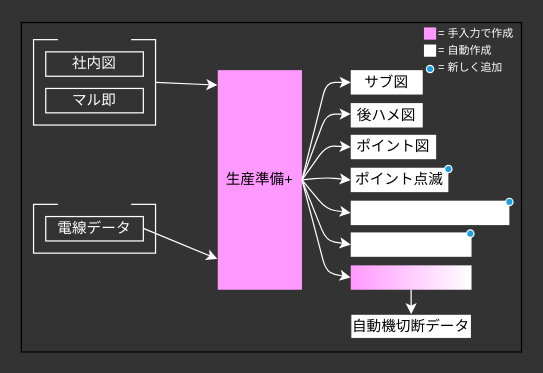
Image size: 543x373. Some labels were removed from this diagram. The box of each missing label's shape, as (x1, y1, x2, y2) in pixels:
チャッカーデータ作成: (350, 200, 509, 224)
主管工場: (57, 27, 131, 51)
竿レイアウト図: (350, 265, 471, 289)
配策図: (350, 232, 471, 256)
電線明細: (57, 192, 131, 216)
